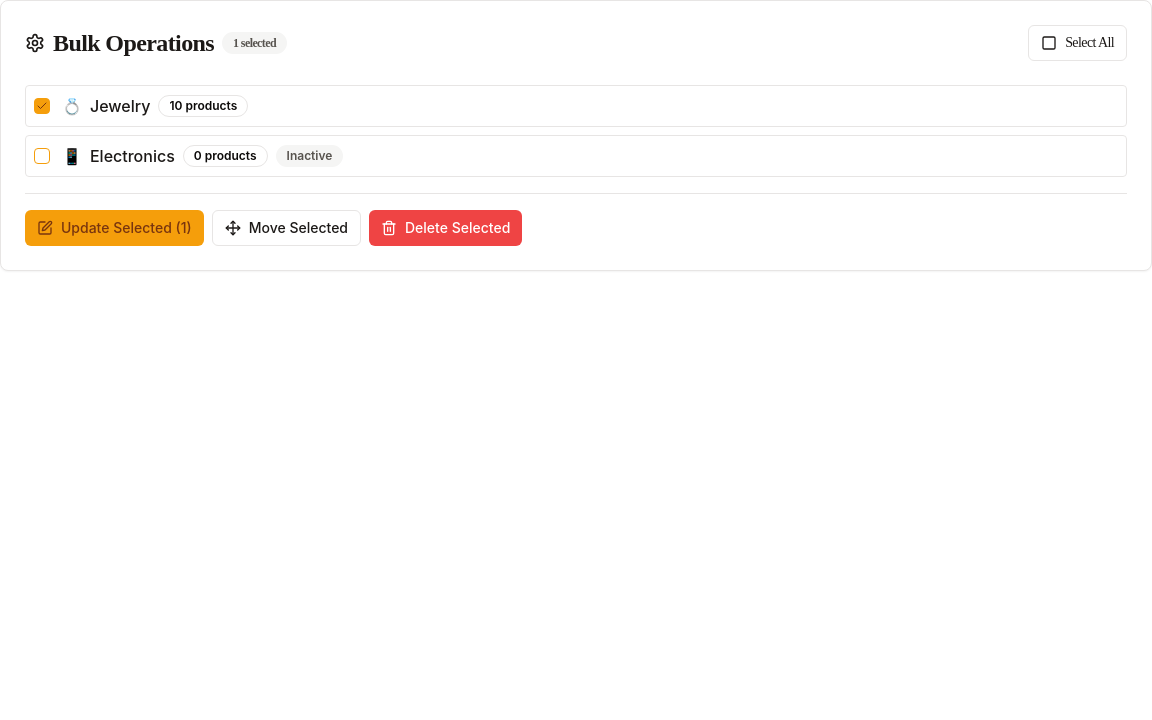
Test: CategoryBulkOperations › opens bulk update dialog
What coordinates should you click on to do the following:
click the button "Update Selected (1)"
I would click on:
 (114, 228)
Its box is [25, 210, 204, 246].
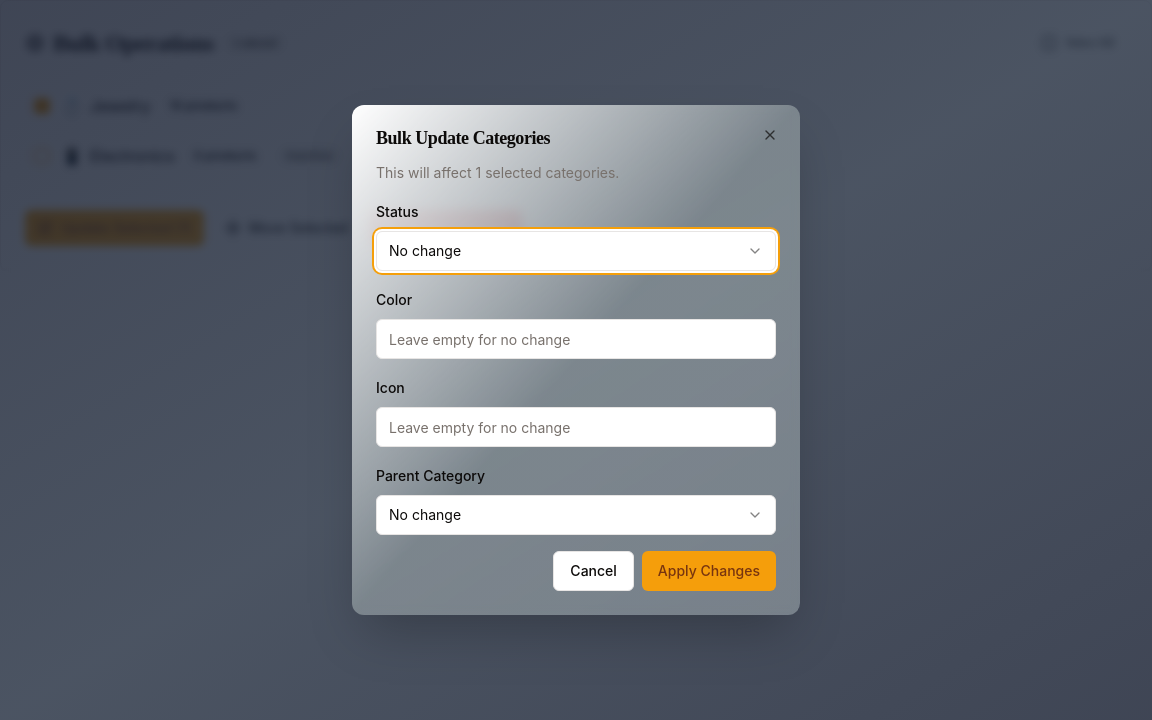
Expected: the heading "Bulk Update Categories" is shown, [376, 128, 550, 148]
Expected: the text "This will affect 1 selected categories." is shown, [376, 164, 619, 181]
